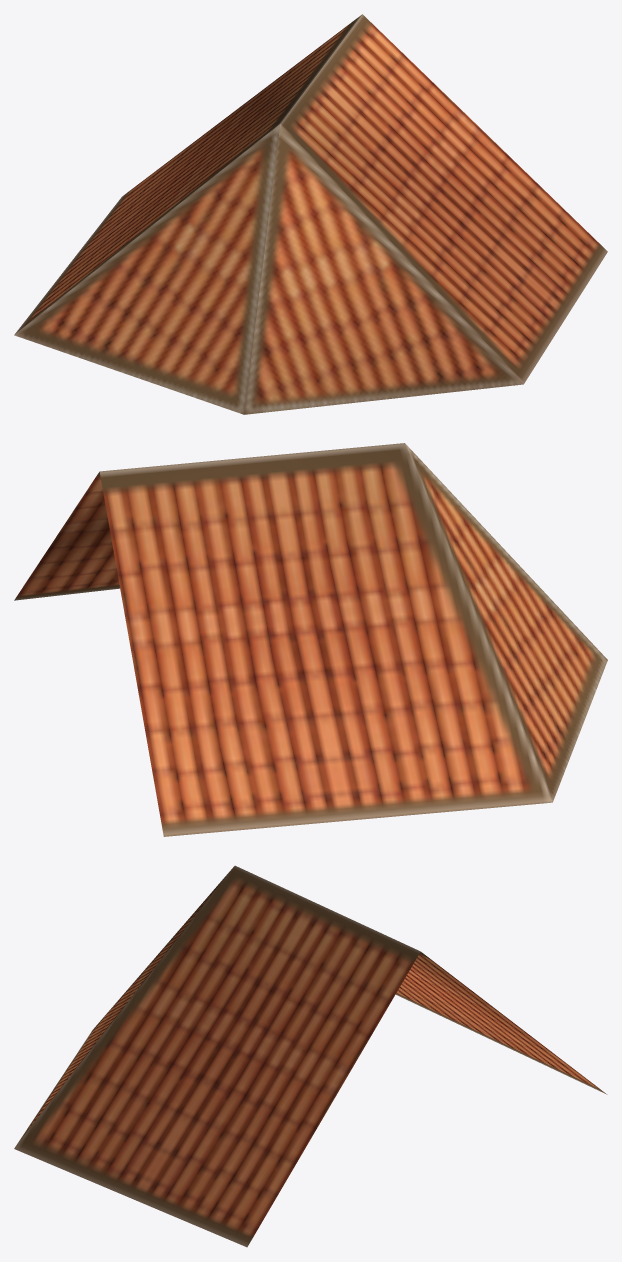
Rendered from DuoiThu2Trai.glb.
3 views of the same model, one above another, from view 1: azimuth 30°, elevation 25°; view 2: azimuth 150°, elevation 25°; view 3: azimuth 270°, elevation 25° (orthographic). The views are drawn at different scales.
Visible parts, largest first — view 1: Object_4.005; view 2: Object_4.005; view 3: Object_4.005.
Boxes of the visible parts, bbox=[...] form: Object_4.005: bbox=[14, 14, 607, 414]; Object_4.005: bbox=[14, 443, 607, 836]; Object_4.005: bbox=[14, 865, 607, 1247].
Size of the model in its own units: 0.3525 by 0.1357 by 0.3367.
Materials: 1 (1 with a texture image).
